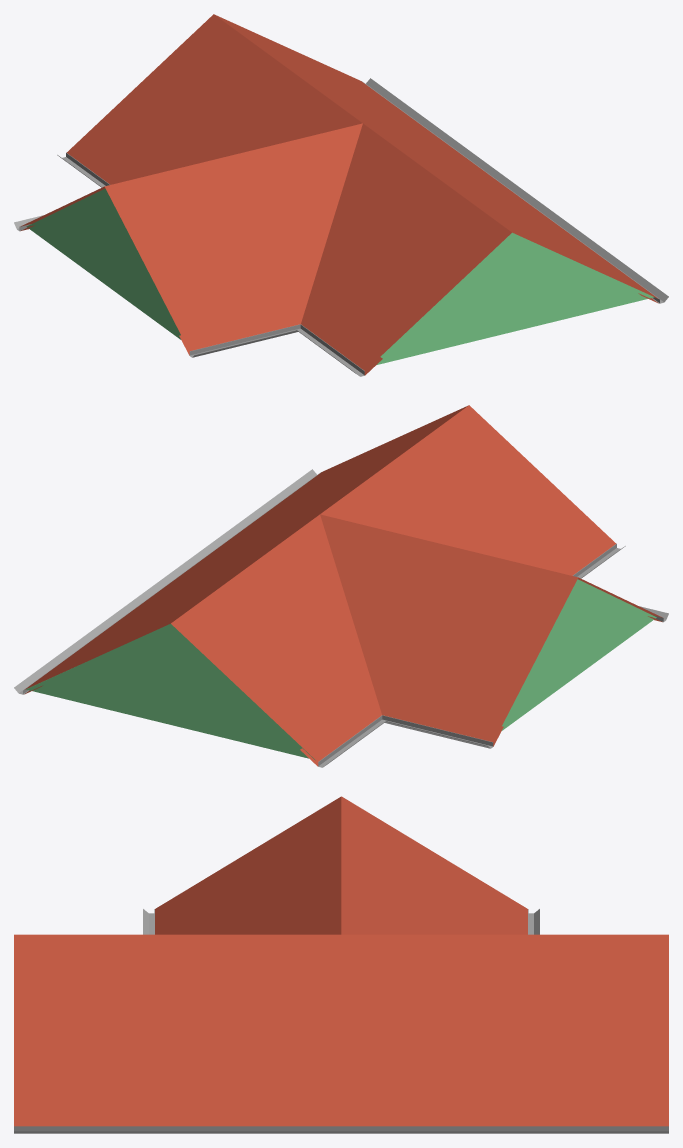
File: MESH_ENV(Telhado_9x9_Formato_T).fbx
3 renders of one model, top to bottom at view 1: azimuth 30°, elevation 25°; view 2: azimuth 150°, elevation 25°; view 3: azimuth 270°, elevation 25°, orthographic. The views are drawn at different scales.
Visible parts, largest first — view 1: MESH_ENV(Telhado_9x9_Formato_T; view 2: MESH_ENV(Telhado_9x9_Formato_T; view 3: MESH_ENV(Telhado_9x9_Formato_T.
Boxes of the visible parts, bbox=[...] form: MESH_ENV(Telhado_9x9_Formato_T: bbox=[14, 14, 668, 376]; MESH_ENV(Telhado_9x9_Formato_T: bbox=[14, 405, 668, 767]; MESH_ENV(Telhado_9x9_Formato_T: bbox=[14, 796, 668, 1133].
Size of the model in its own units: 964 by 238 by 1200.
